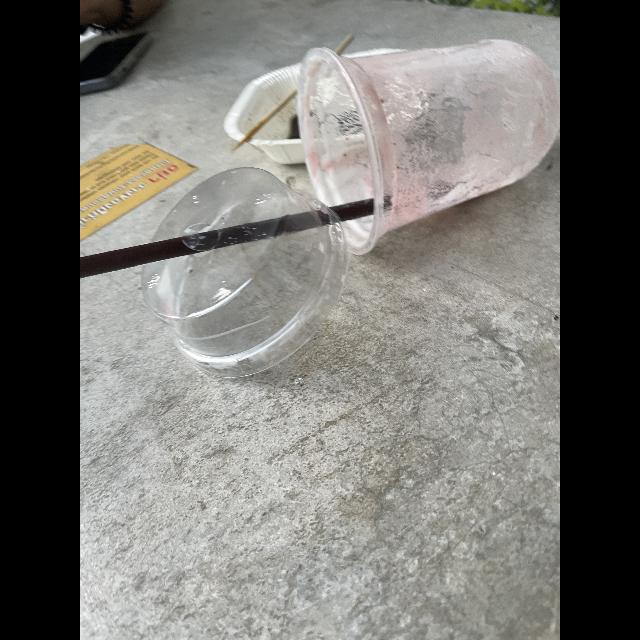plastic_cup: (300, 32, 560, 256)
plastic_cup_lid: (140, 164, 360, 384)
stick: (217, 27, 356, 157)
straw: (80, 192, 372, 290)
